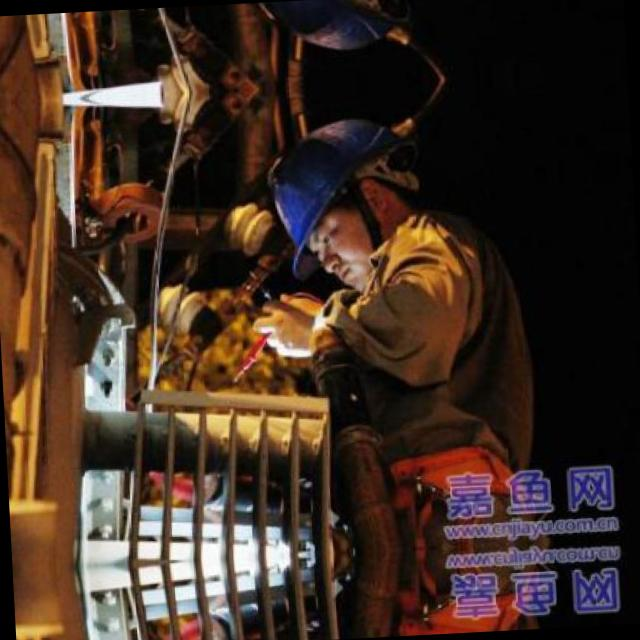helmet: (251, 113, 411, 295), (244, 0, 399, 59)
